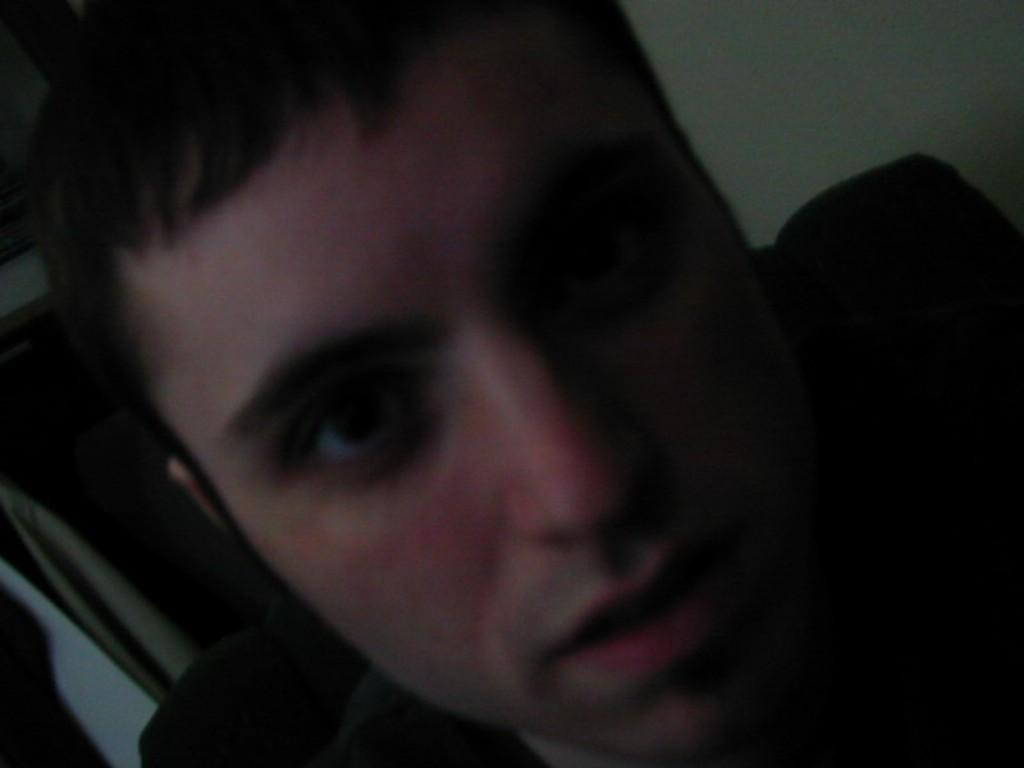Sem Máscara: (144, 45, 809, 765)
